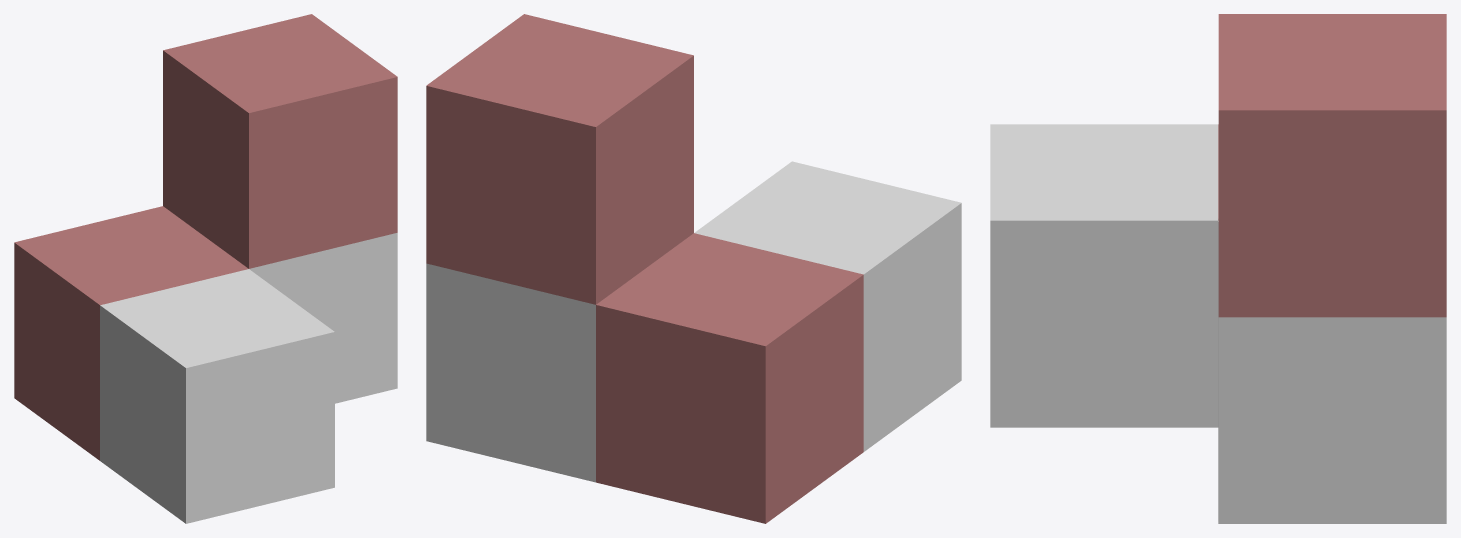
Rendered from piece5.fbx.
3 views of the same model, side by side, from view 1: azimuth 30°, elevation 25°; view 2: azimuth 150°, elevation 25°; view 3: azimuth 270°, elevation 25° (orthographic). The views are drawn at different scales.
Parts seen in each view (by area): view 1: Shape_IndexedFaceSet.001; view 2: Shape_IndexedFaceSet.001; view 3: Shape_IndexedFaceSet.001.
Boxes of the visible parts, left/top/right/bottom form: Shape_IndexedFaceSet.001: left=14, top=14, right=397, bottom=523; Shape_IndexedFaceSet.001: left=426, top=14, right=961, bottom=523; Shape_IndexedFaceSet.001: left=990, top=14, right=1446, bottom=523.
Bounding box in the file's own units: 200 × 200 × 200.
